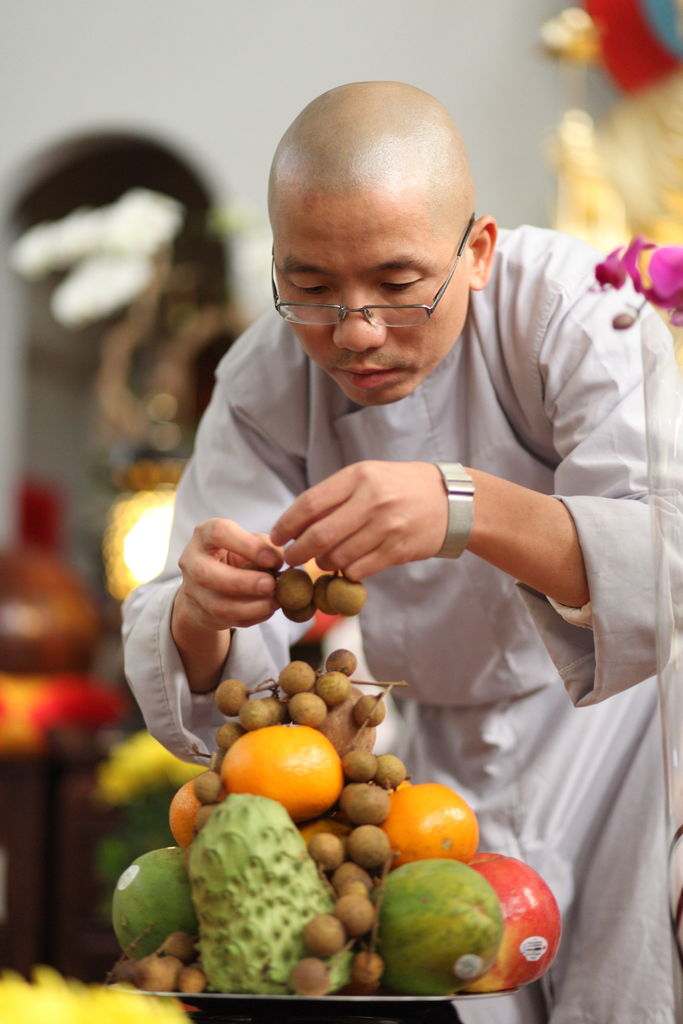Ripe: (220, 724, 348, 820), (385, 782, 484, 871), (169, 783, 202, 842)
